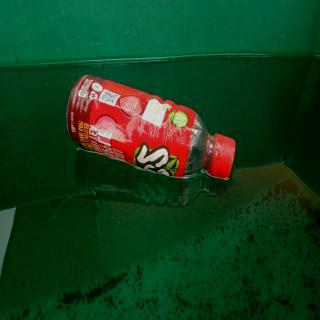bottle: (65, 71, 236, 181)
